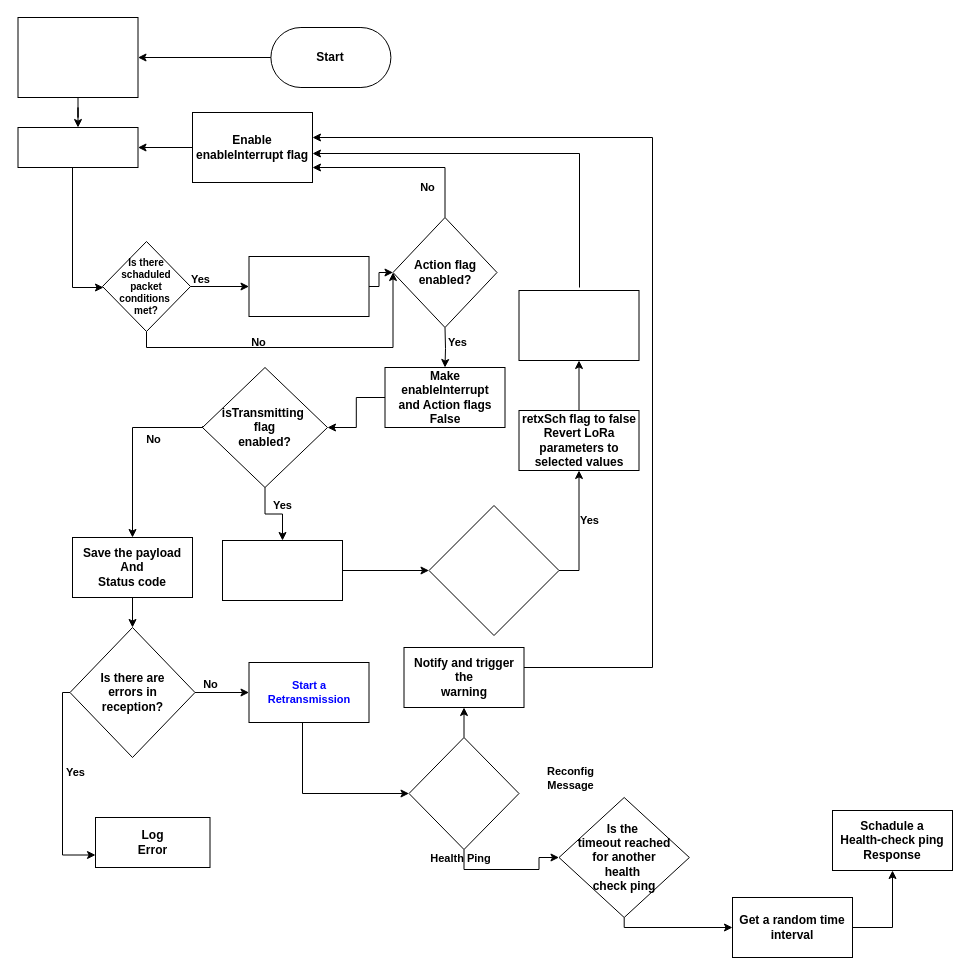
This 970x975 diagram has some shape labels left out. Here are the shapes that lost their labels. From the top down, the centre of each, then its label:
At [77,57]: "Initiate LoRa radio with given parameters attach and enable Interrupts".
At [77,147]: "Initiate Listening Mode".
At [308,286]: "Transmit the packet, enable the isTransmitting flag".
At [578,325]: "Disable isTransmitting flag".
At [282,570]: "Log transmission status".
At [493,570]: "retxSch flag Enabled?".
At [463,793]: "What is the packet type".
